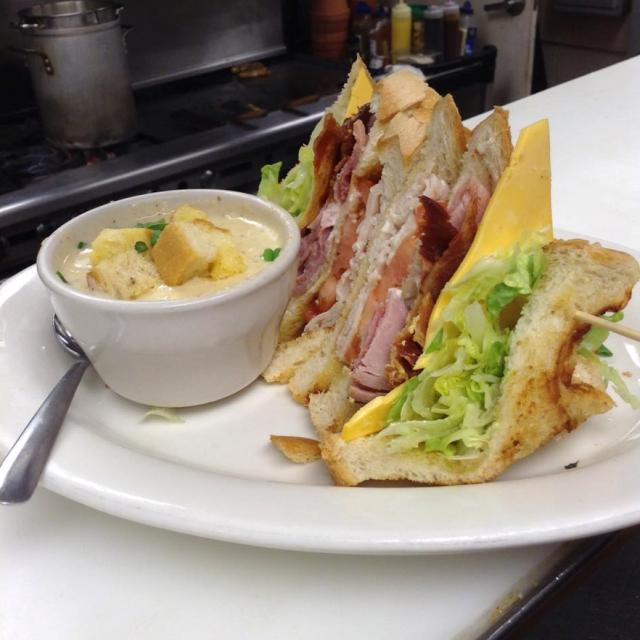Sandwich: (274, 49, 624, 499)
